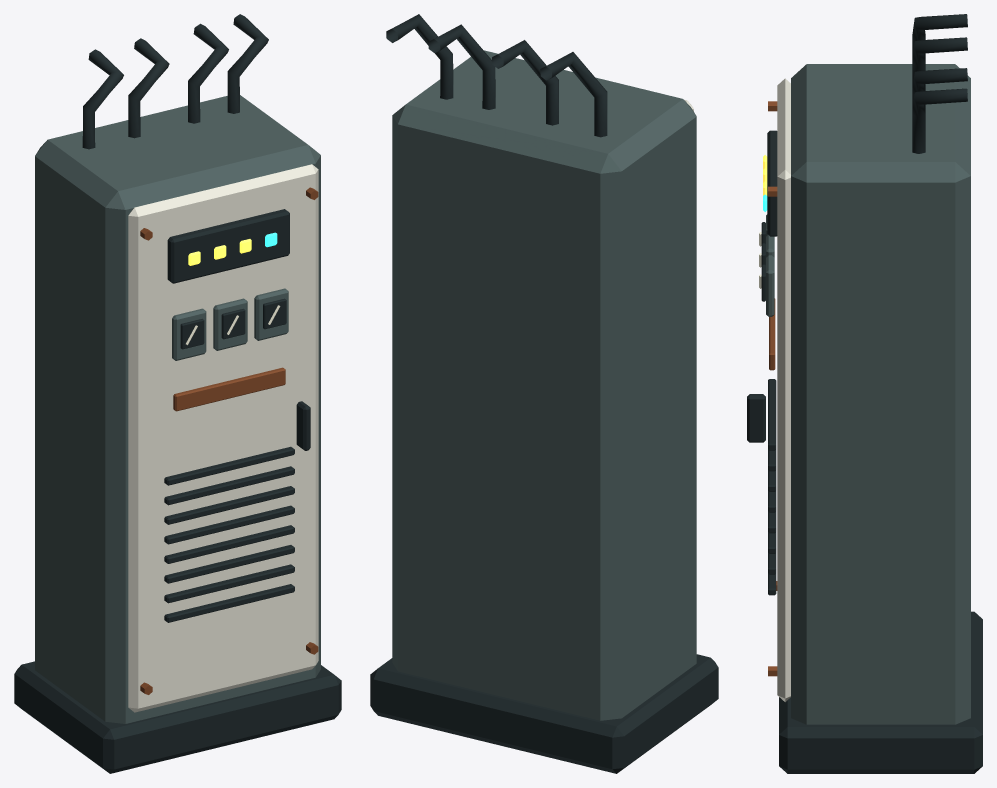
The model's file is relay_cabinet.glb.
3 views of the same model, side by side, from view 1: azimuth 30°, elevation 25°; view 2: azimuth 150°, elevation 25°; view 3: azimuth 270°, elevation 25° (orthographic). The views are drawn at different scales.
Visible parts, largest first — view 1: body.004_mesh; view 2: body.004_mesh; view 3: body.004_mesh.
Boxes of the visible parts, box(x1,y1,x2,y2) form: body.004_mesh: box(14, 14, 341, 773); body.004_mesh: box(370, 14, 718, 773); body.004_mesh: box(747, 14, 982, 773).
Size of the model in its own units: 0.84 by 2.17 by 0.6825.
